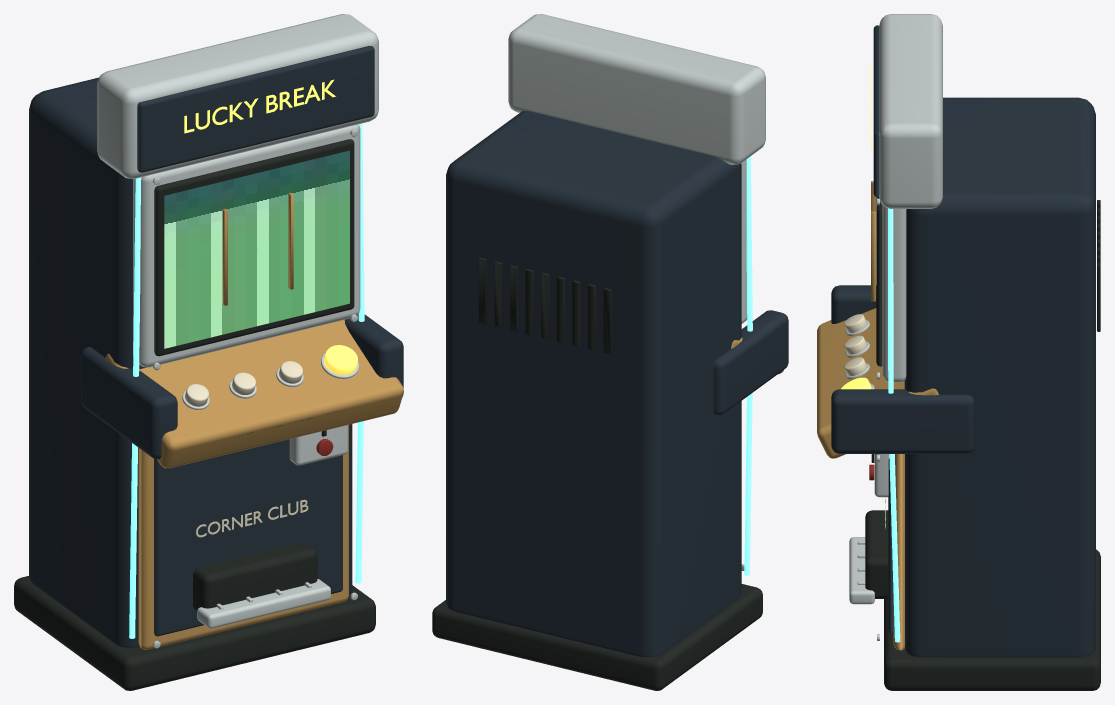
The model's file is slot-cabinet.glb.
3 renders of one model, left to right at view 1: azimuth 30°, elevation 25°; view 2: azimuth 150°, elevation 25°; view 3: azimuth 270°, elevation 25°, orthographic. The views are drawn at different scales.
Parts seen in each view (by area): view 1: slot-cabinet; view 2: slot-cabinet; view 3: slot-cabinet.
Boxes of the visible parts, <box> form: slot-cabinet: <box>14,14,403,690</box>; slot-cabinet: <box>432,14,788,690</box>; slot-cabinet: <box>817,14,1100,690</box>.
Bounding box in the file's own units: 0.875 × 1.96 × 0.8894.
10 materials, 1 textured.
